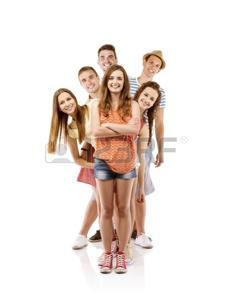person: (51, 75, 95, 152), (90, 64, 139, 123), (136, 42, 170, 100), (128, 74, 159, 128)
